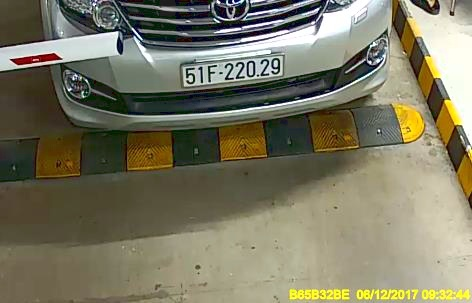plate: (176, 51, 283, 93)
